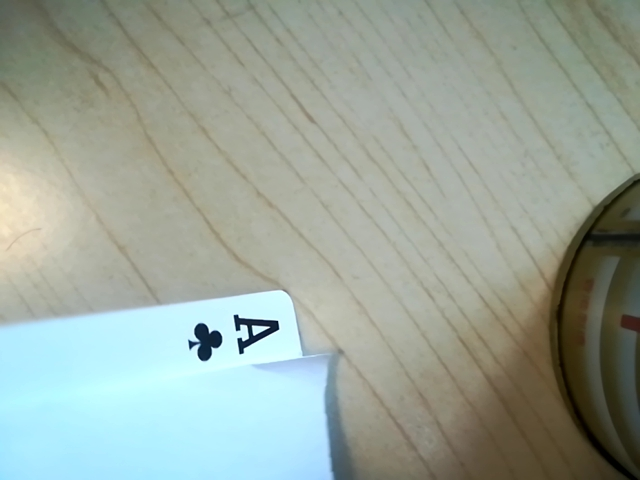mh a: (174, 299, 306, 369)
